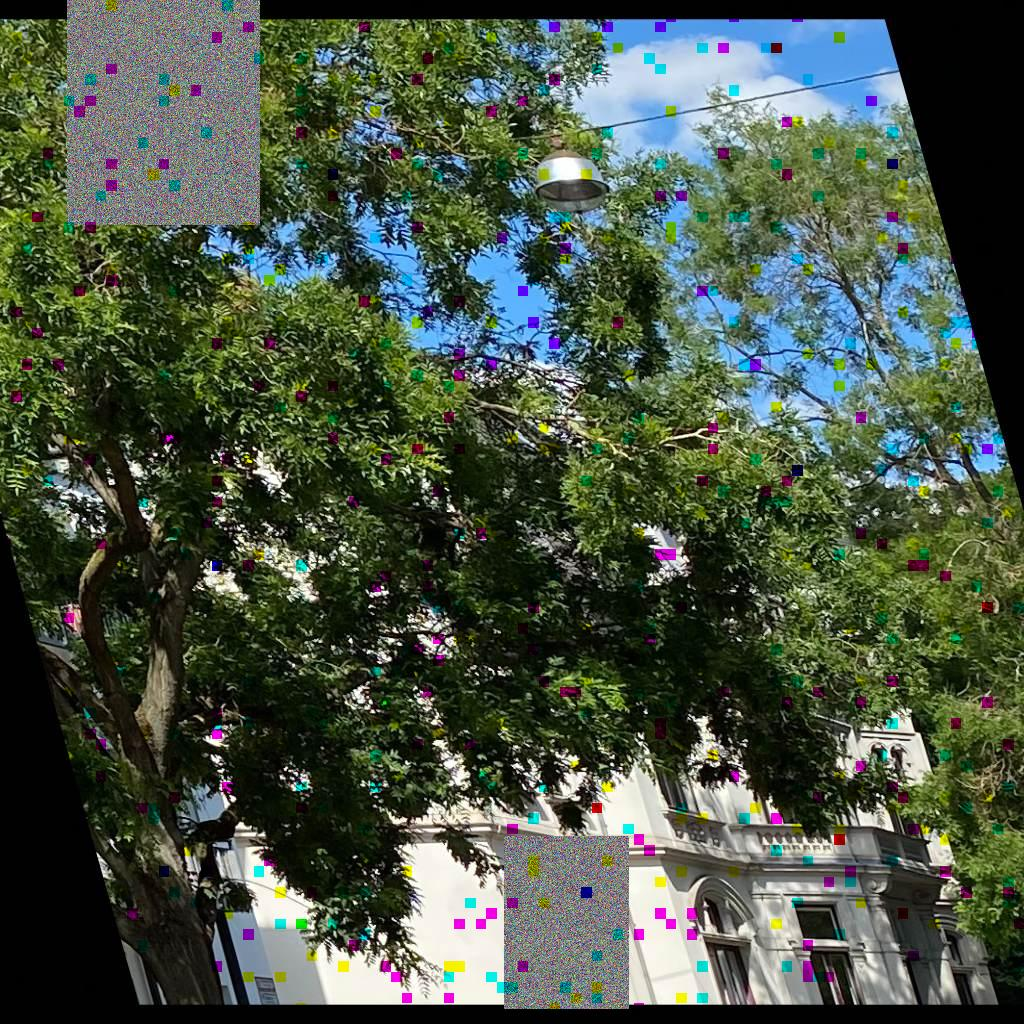tree: (1, 17, 968, 1004), (510, 79, 1023, 1004)
